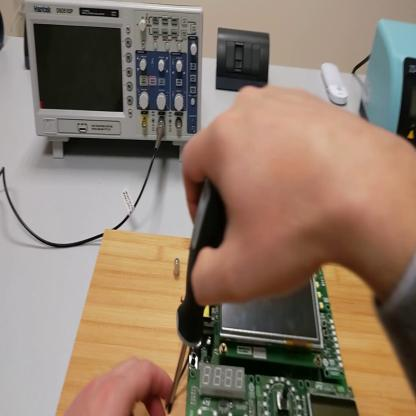hand: (181, 79, 349, 306), (65, 357, 173, 415)
low voltage board: (187, 261, 360, 415)
oscilloscope: (28, 4, 206, 161)
screwdriver-: (164, 181, 234, 416)
socket: (25, 17, 32, 70), (2, 14, 6, 56)
welder station: (359, 14, 415, 150)
working area: (56, 229, 415, 412)
